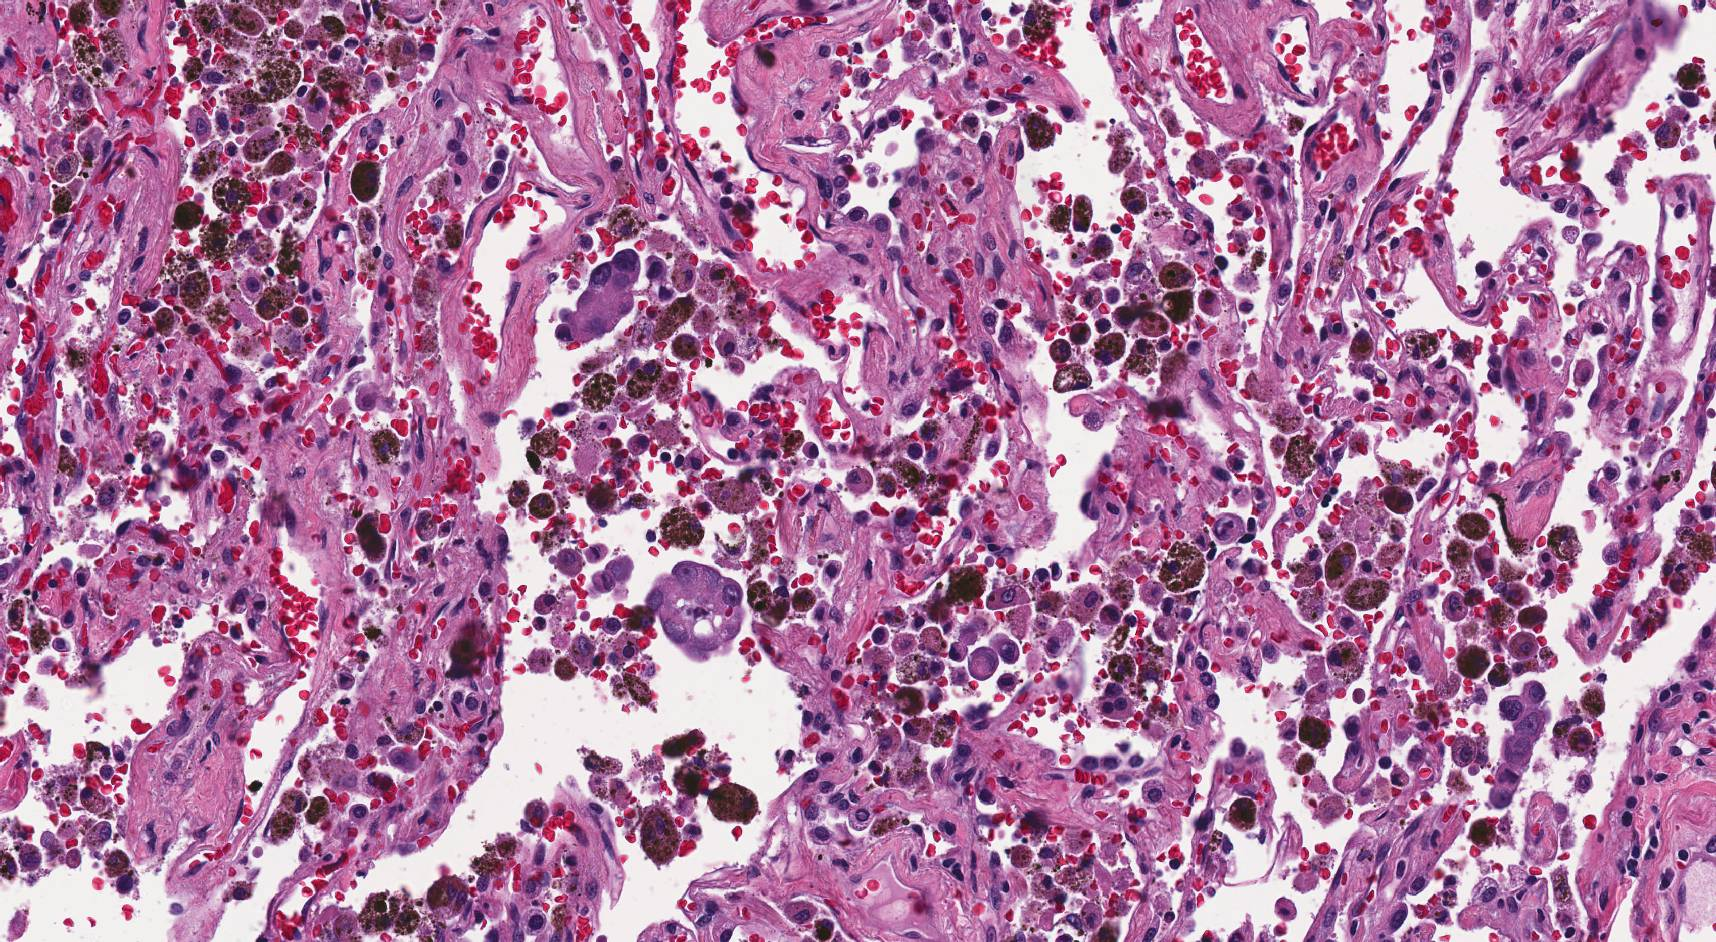stas: (643, 561, 745, 665), (1490, 679, 1552, 811), (555, 249, 640, 347)
